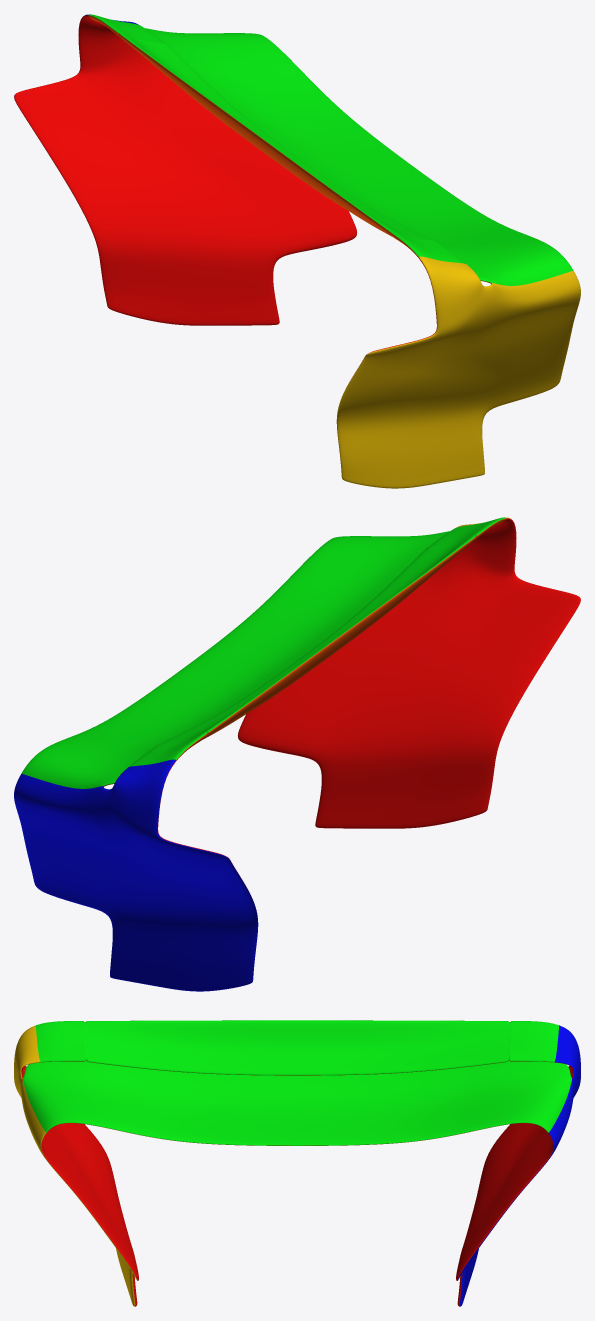
Rendered from fp04rb_rear_wing.obj.
3 renders of one model, top to bottom at view 1: azimuth 30°, elevation 25°; view 2: azimuth 150°, elevation 25°; view 3: azimuth 270°, elevation 25°, orthographic. The views are drawn at different scales.
Visible parts, largest first — view 1: rear_wing_no_mod_Plane.019; view 2: rear_wing_no_mod_Plane.019; view 3: rear_wing_no_mod_Plane.019.
Boxes of the visible parts, x1=… form: rear_wing_no_mod_Plane.019: x1=14, y1=14, x2=580, y2=488; rear_wing_no_mod_Plane.019: x1=14, y1=517, x2=580, y2=991; rear_wing_no_mod_Plane.019: x1=14, y1=1020, x2=580, y2=1306.
Size of the model in its own units: 1.34 by 1.43 by 3.1.
